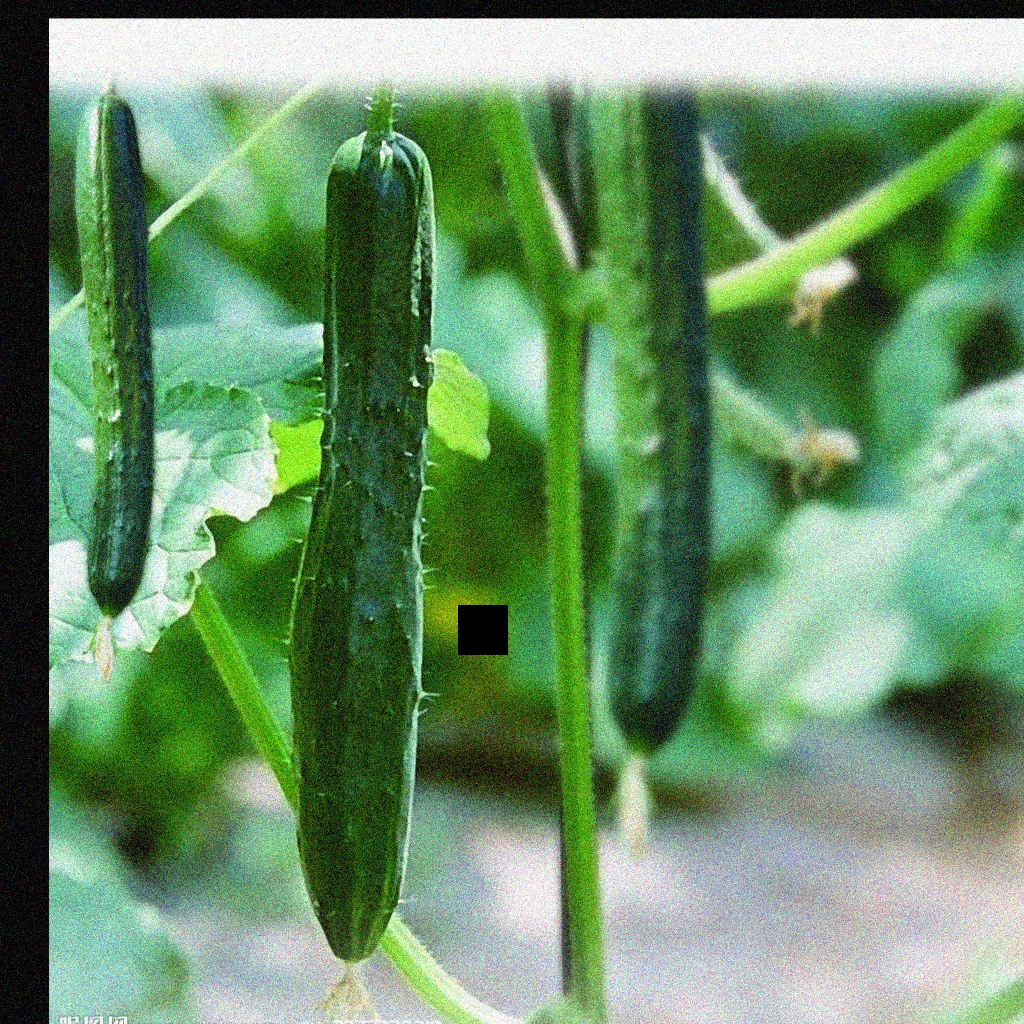cucumber: (276, 136, 454, 965), (69, 93, 167, 619)
